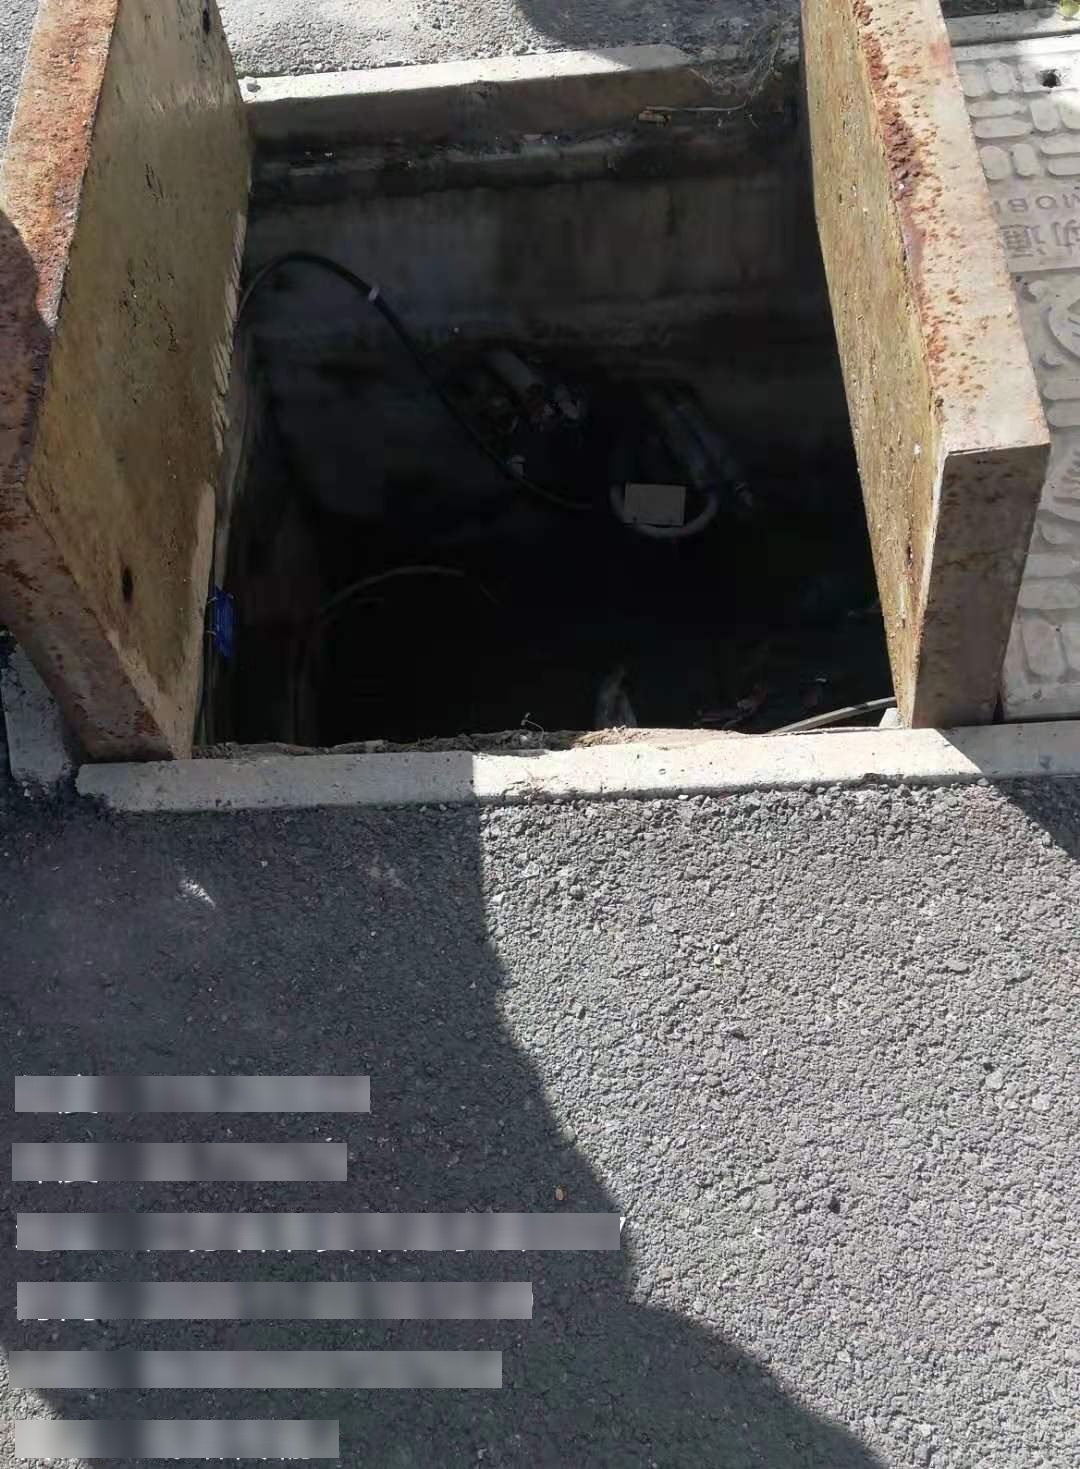uncovered: (15, 1, 1075, 805)
